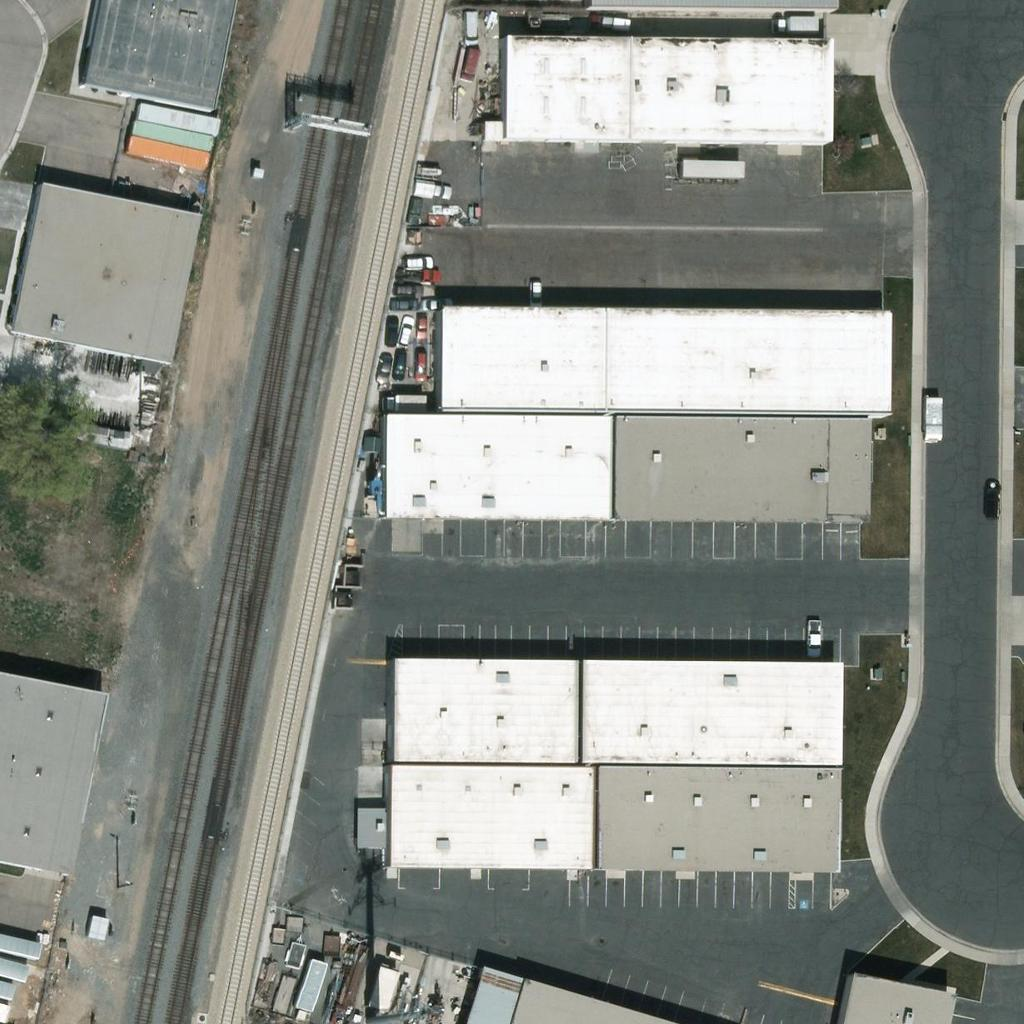car: (453, 10, 487, 44), (454, 44, 488, 78), (418, 172, 452, 206), (397, 191, 431, 225), (401, 244, 435, 278), (388, 272, 422, 306), (519, 275, 553, 309), (385, 286, 419, 320), (414, 288, 448, 322), (404, 308, 438, 342), (374, 315, 408, 349), (388, 315, 422, 349), (380, 344, 414, 378), (404, 345, 438, 379), (366, 349, 400, 383), (973, 482, 1007, 516), (797, 622, 831, 656)
